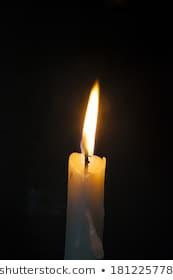fire: (79, 78, 100, 158)
